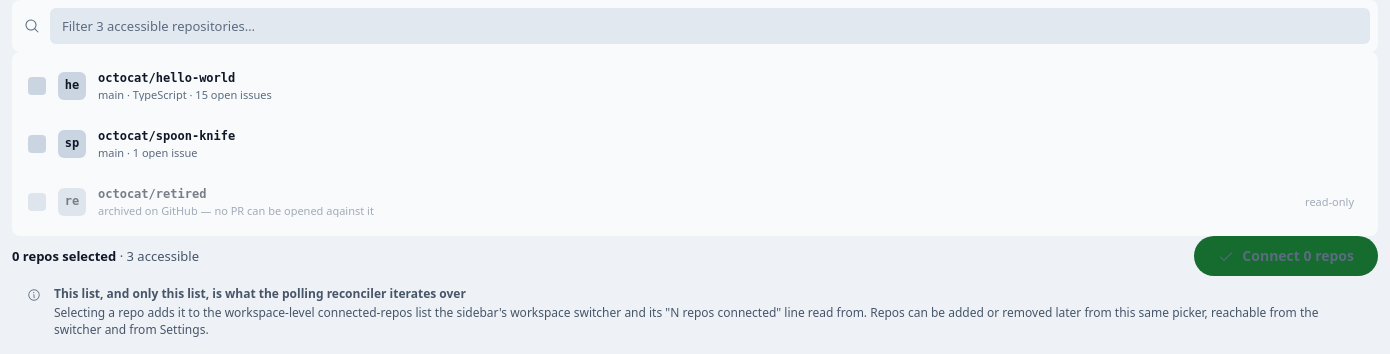
Test: RepoPicker › filters as you type, over the whole list rather than a page of it
The image size is (1390, 354).
Type "spoon" into the search field named "Filter repositories" at (710, 26), box top-left (50, 8), bottom-right (1370, 44)
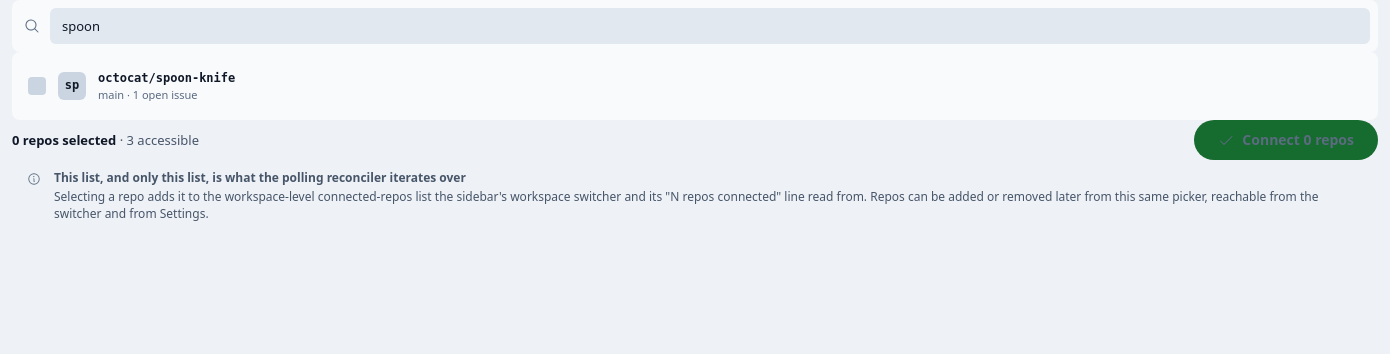
Expected: the checkbox labelled "sp octocat/spoon-knife main · 1 open issue" is shown, top-left (18, 58), bottom-right (1364, 114)
Now the checkbox labelled "hello-world" is gone
